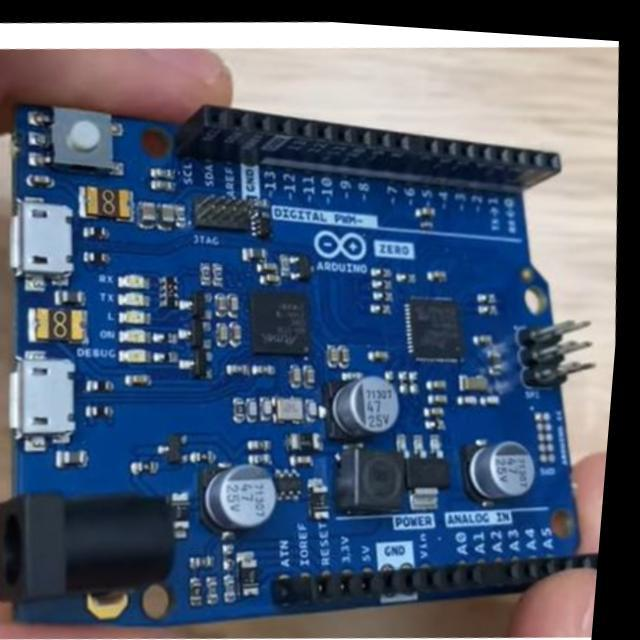Arduino-Zero: (1, 105, 596, 626)
